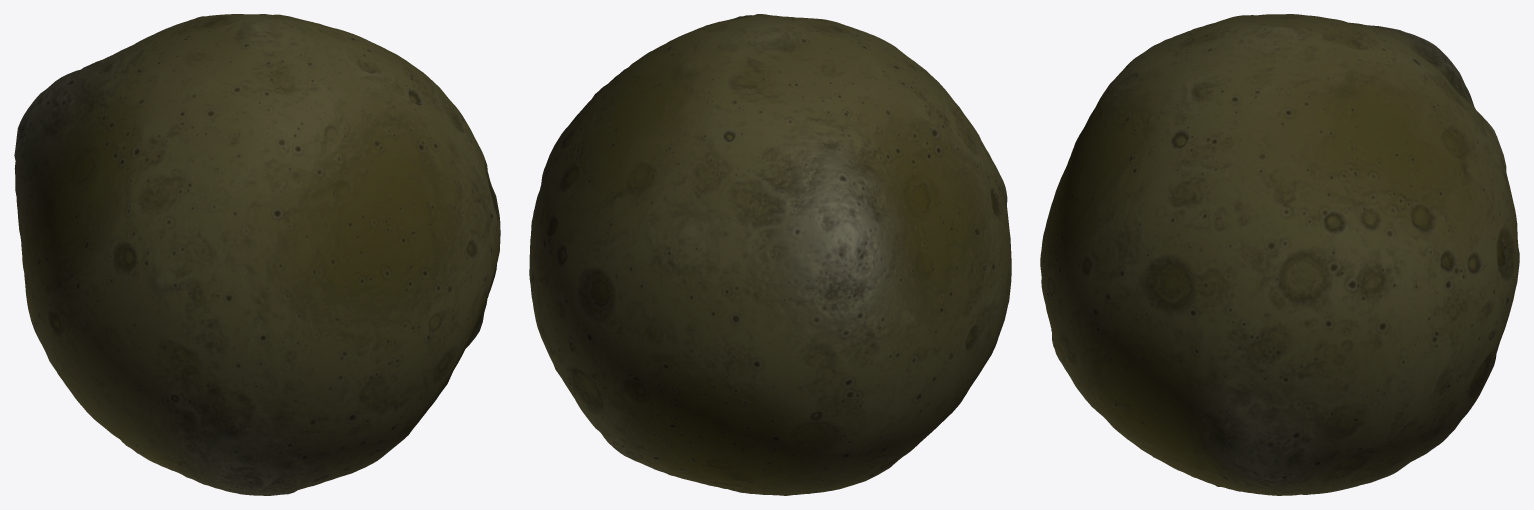
The model's file is Test_planet.obj.
The picture shows the model from 3 angles, left to right: view 1: azimuth 30°, elevation 25°; view 2: azimuth 150°, elevation 25°; view 3: azimuth 270°, elevation 25°; orthographic projection.
Visible parts, largest first — view 1: Instance_0; view 2: Instance_0; view 3: Instance_0.
Boxes of the visible parts, x1,y1,x2,y2 form: Instance_0: (14, 14, 500, 495); Instance_0: (529, 14, 1011, 495); Instance_0: (1040, 14, 1519, 495).
Bounding box in the file's own units: 16.86 × 16.98 × 16.51.
1 material, 1 textured.
